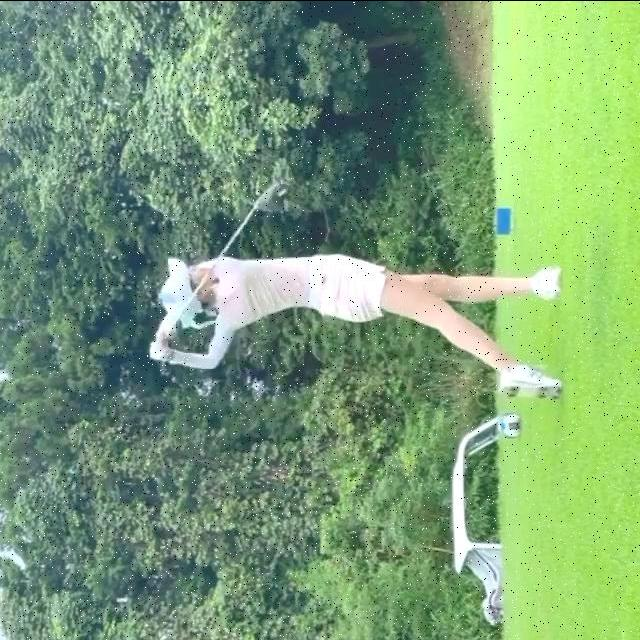golf club-handle: (165, 183, 291, 337)
golf club-head: (256, 183, 290, 214)
